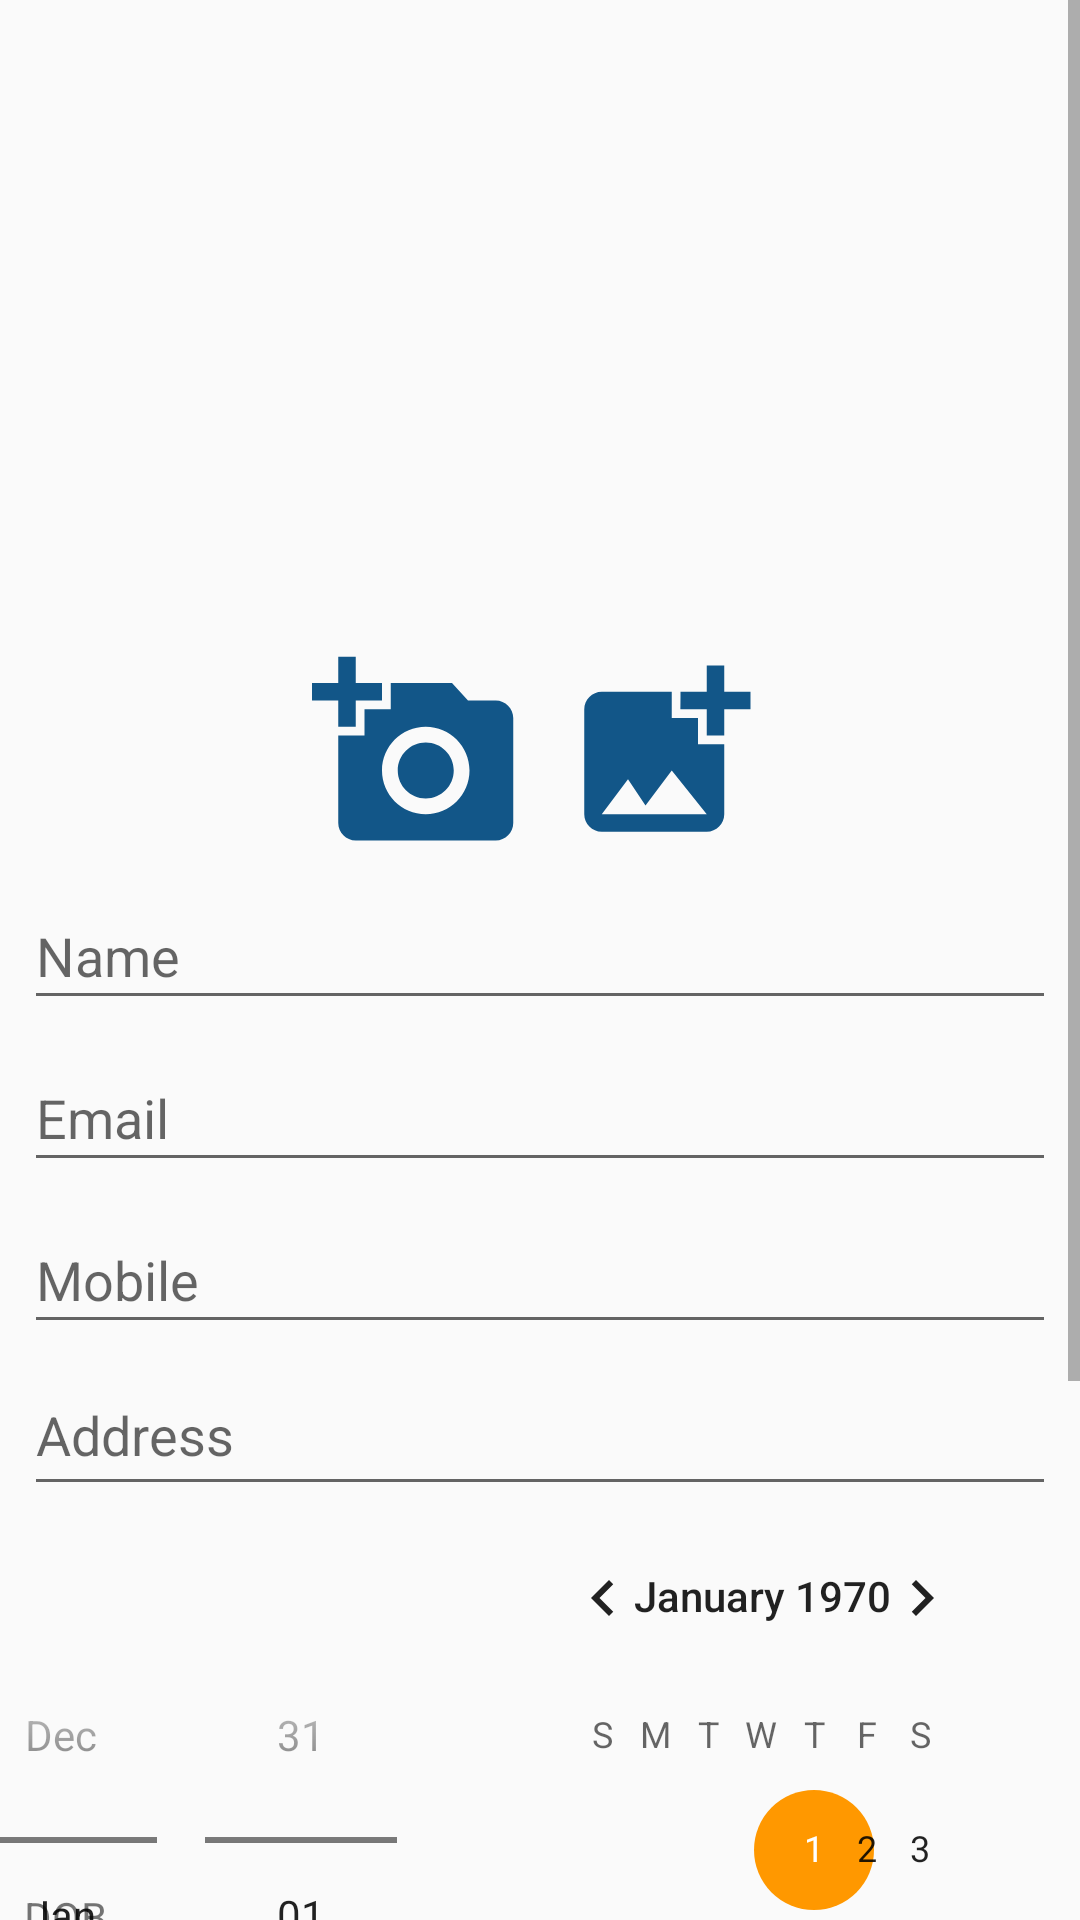

Screen size 1080×1920. Icon name, then its box in pixels as box(x1, y1, x2, y2):
add photo: box(584, 665, 751, 832)
camera: box(312, 656, 514, 841)
